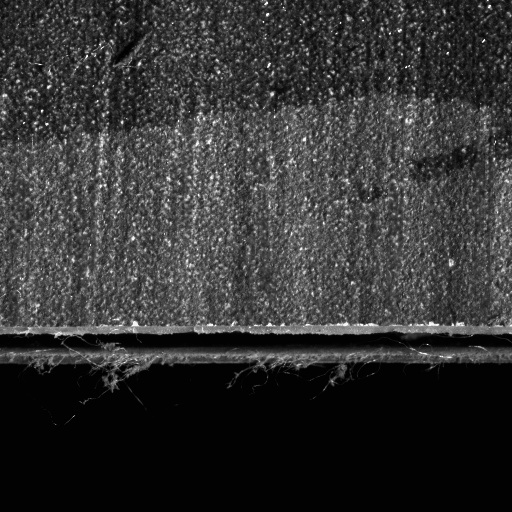kaijiao: (0, 322, 511, 369)
